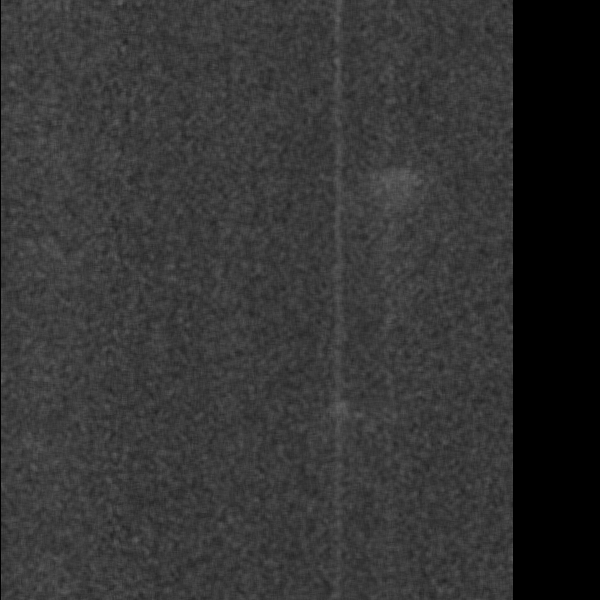spark: (329, 161, 440, 234), (325, 393, 355, 438)
